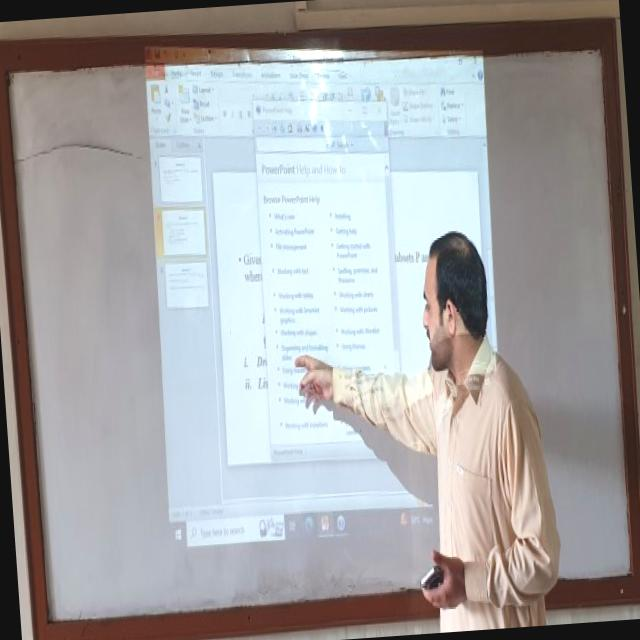Instructor: (390, 212, 568, 624)
Slide: (145, 43, 507, 537)
White-board: (0, 38, 639, 633)
